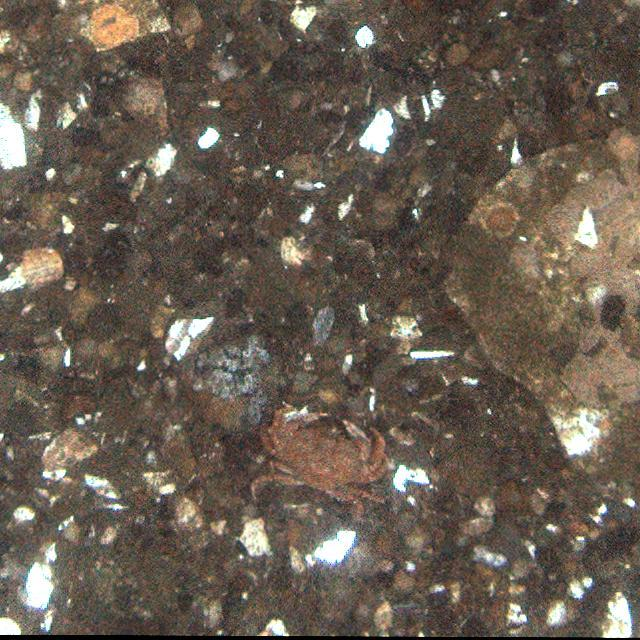crab: (259, 399, 387, 514)
